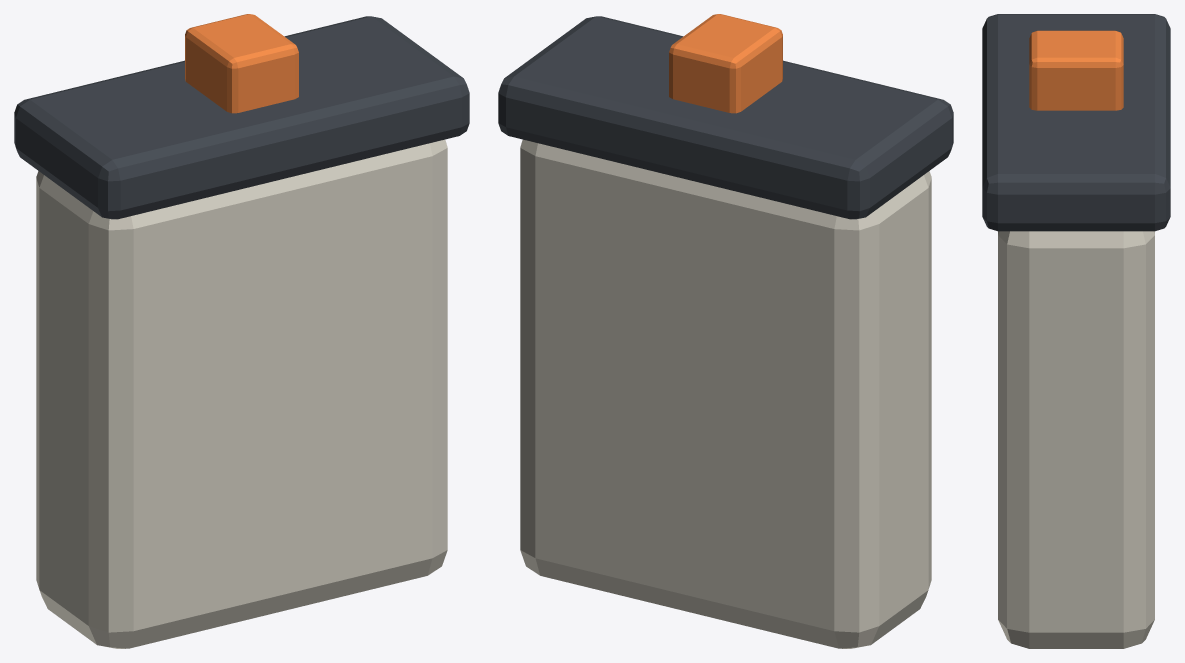
File: human_wall.glb
3 views of the same model, side by side, from view 1: azimuth 30°, elevation 25°; view 2: azimuth 150°, elevation 25°; view 3: azimuth 270°, elevation 25° (orthographic). The views are drawn at different scales.
Parts seen in each view (by area): view 1: wall_panel, wall_cap, perimeter_light; view 2: wall_panel, wall_cap, perimeter_light; view 3: wall_panel, wall_cap, perimeter_light.
Part boxes in pixels (left/top/right/bottom): wall_panel: left=36, top=139, right=447, bottom=648; wall_cap: left=14, top=16, right=469, bottom=219; perimeter_light: left=185, top=14, right=298, bottom=113; wall_panel: left=520, top=139, right=931, bottom=648; wall_cap: left=498, top=16, right=953, bottom=219; perimeter_light: left=669, top=14, right=782, bottom=113; wall_panel: left=998, top=231, right=1154, bottom=648; wall_cap: left=982, top=14, right=1170, bottom=231; perimeter_light: left=1029, top=30, right=1123, bottom=110.
Size of the model in its own units: 1.04 by 1.5 by 0.48.
